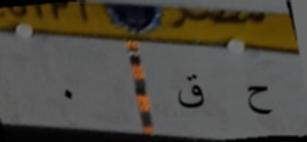0: (56, 84, 83, 108)
7aa: (243, 80, 275, 121)
qaaf: (172, 69, 206, 116)
